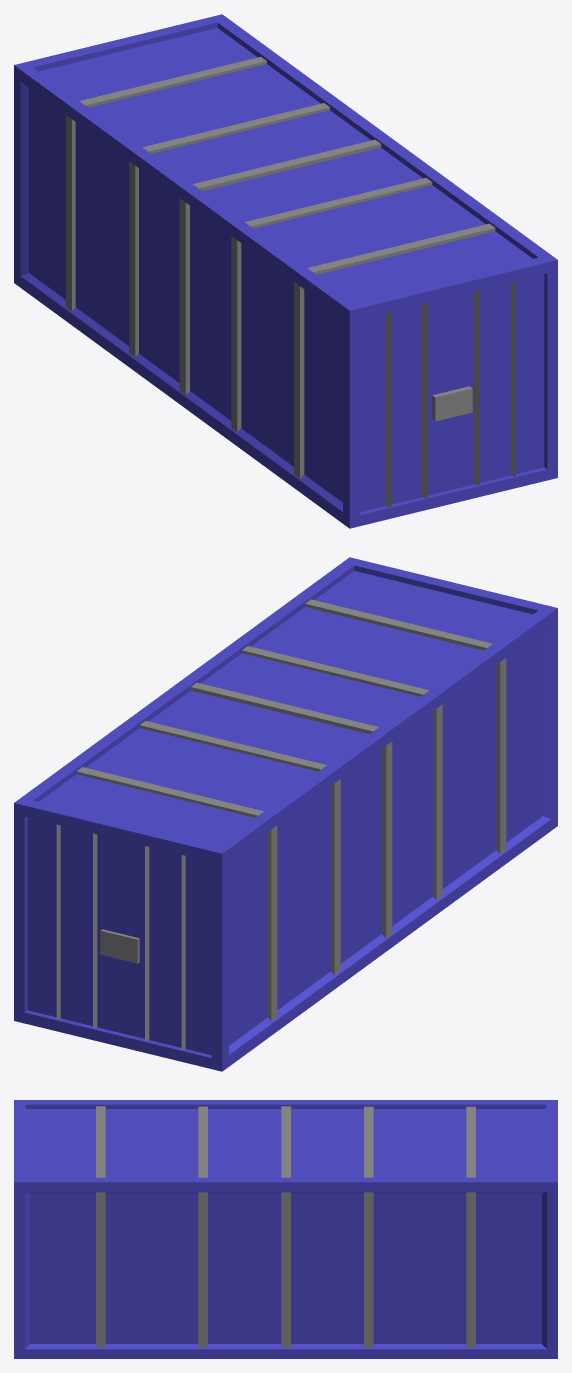
Rendered from lp_cargoContainer(Scaled)Coloured.fbx.
3 renders of one model, top to bottom at view 1: azimuth 30°, elevation 25°; view 2: azimuth 150°, elevation 25°; view 3: azimuth 270°, elevation 25°, orthographic. The views are drawn at different scales.
Visible parts, largest first — view 1: Cube, Cube.015, Cube.011, Cube.014, Cube.013, Cube.012, Cube.016, Cube.020, Cube.017, Cube.019, Cube.018, Cylinder.003 (+4 smaller); view 2: Cube, Cube.015, Cube.011, Cube.012, Cube.013, Cube.014, Cube.016, Cube.020, Cube.018, Cube.019, Cube.017, Cube.022 (+4 smaller); view 3: Cube, Cube.010, Cube.009, Cube.008, Cube.007, Cube.006, Cube.020, Cube.019, Cube.018, Cube.017, Cube.016.
Boxes of the visible parts, box(x1,y1,x2,y2) form: Cube: box(14, 14, 557, 528); Cube.015: box(179, 198, 189, 395); Cube.011: box(294, 282, 304, 478); Cube.014: box(231, 236, 241, 431); Cube.013: box(129, 161, 138, 356); Cube.012: box(66, 115, 75, 310); Cube.016: box(193, 139, 381, 191); Cube.020: box(307, 223, 495, 274); Cube.017: box(245, 178, 432, 228); Cube.019: box(79, 57, 266, 107); Cube.018: box(143, 103, 329, 153); Cylinder.003: box(422, 303, 427, 498); Cube: box(14, 557, 557, 1071); Cube.015: box(382, 741, 392, 938); Cube.011: box(496, 658, 506, 854); Cube.012: box(267, 825, 277, 1021); Cube.013: box(330, 779, 340, 974); Cube.014: box(433, 704, 442, 899); Cube.016: box(190, 682, 378, 734); Cube.020: box(305, 599, 492, 650); Cube.018: box(139, 721, 326, 771); Cube.019: box(76, 767, 263, 817); Cube.017: box(242, 646, 428, 696); Cube.022: box(100, 929, 139, 963); Cube: box(14, 1100, 557, 1358); Cube.010: box(96, 1192, 105, 1347); Cube.009: box(466, 1192, 475, 1347); Cube.008: box(364, 1192, 373, 1347); Cube.007: box(198, 1192, 207, 1347); Cube.006: box(281, 1192, 290, 1347); Cube.020: box(96, 1106, 105, 1177); Cube.019: box(466, 1106, 475, 1177); Cube.018: box(364, 1106, 373, 1177); Cube.017: box(198, 1106, 207, 1177); Cube.016: box(281, 1106, 290, 1177).
Bounding box in the file's own units: 388 × 388 × 1083.
